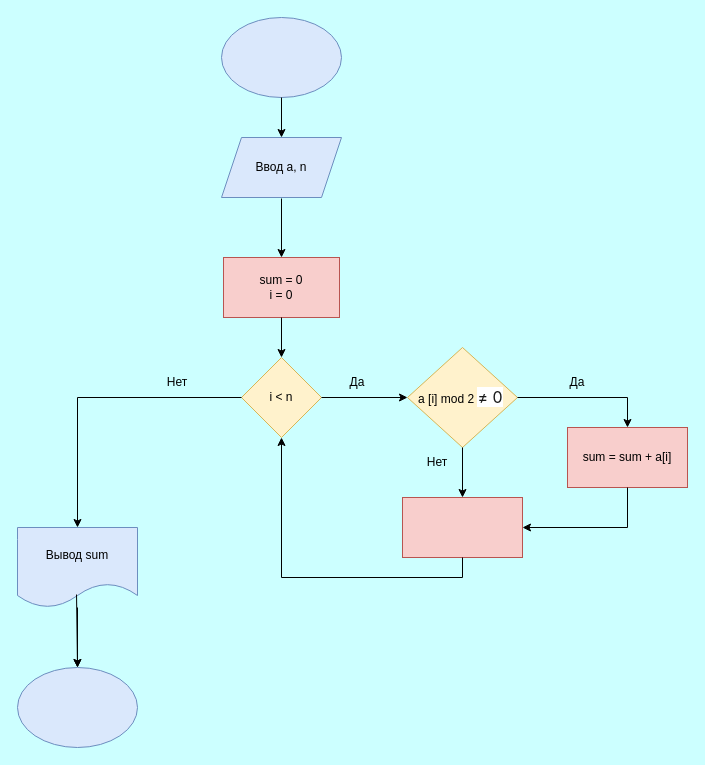
Image size: 705x765. Some labels were removed from this diagram. Each missing label, with the centre of its shape:
i = i+1: [462,527]
Конец: [77,707]
Начало: [281,57]
